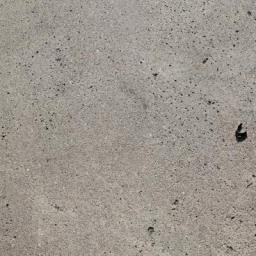FOD: (231, 122, 250, 145)
